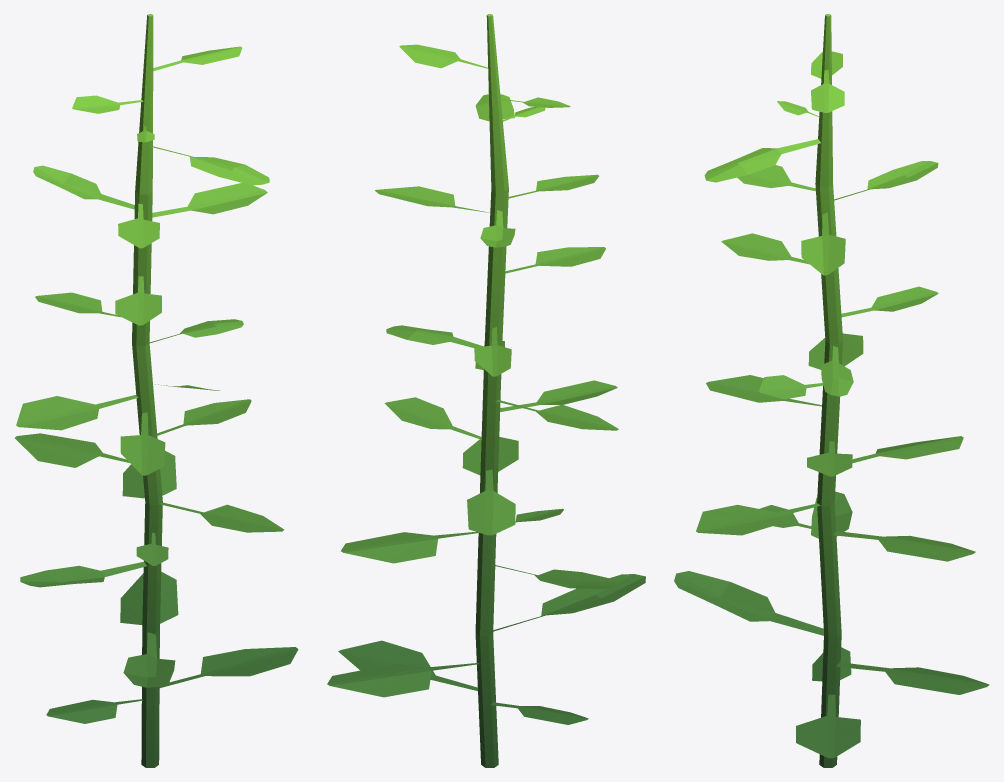
Rendered from Seaweed_Mohabins.fbx.
3 views of the same model, side by side, from view 1: azimuth 30°, elevation 25°; view 2: azimuth 150°, elevation 25°; view 3: azimuth 270°, elevation 25° (orthographic).
Visible parts, largest first — view 1: Seaweed; view 2: Seaweed; view 3: Seaweed.
Part boxes in pixels (x1=…): Seaweed: x1=15, y1=14, x2=298, y2=767; Seaweed: x1=327, y1=14, x2=645, y2=767; Seaweed: x1=674, y1=14, x2=989, y2=767.
Size of the model in its own units: 218 by 559 by 214.
